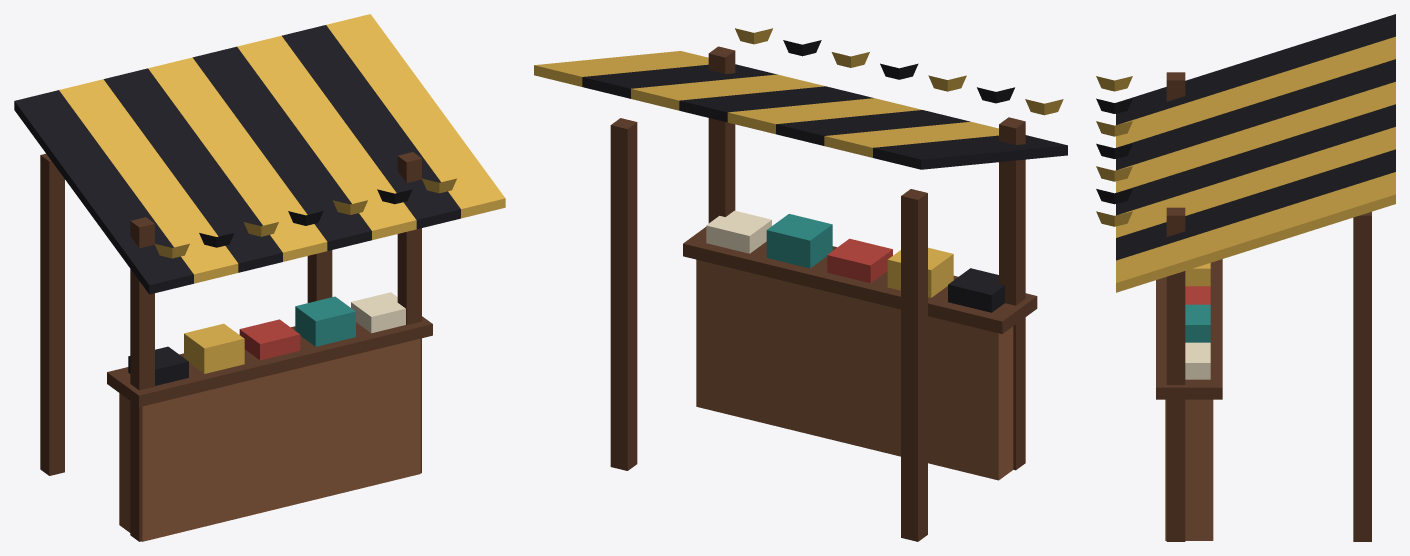
Rendered from b-bazaar-stall.glb.
The picture shows the model from 3 angles, left to right: view 1: azimuth 30°, elevation 25°; view 2: azimuth 150°, elevation 25°; view 3: azimuth 270°, elevation 25°; orthographic projection. The views are drawn at different scales.
Parts seen in each view (by area): view 1: b-bazaar-stall; view 2: b-bazaar-stall; view 3: b-bazaar-stall.
Part boxes in pixels (x1,y1,x2,y2): b-bazaar-stall: (14, 14, 505, 541); b-bazaar-stall: (534, 28, 1067, 541); b-bazaar-stall: (1096, 14, 1395, 541).
Bounding box in the file's own units: 1.6 × 1.56 × 1.12.
